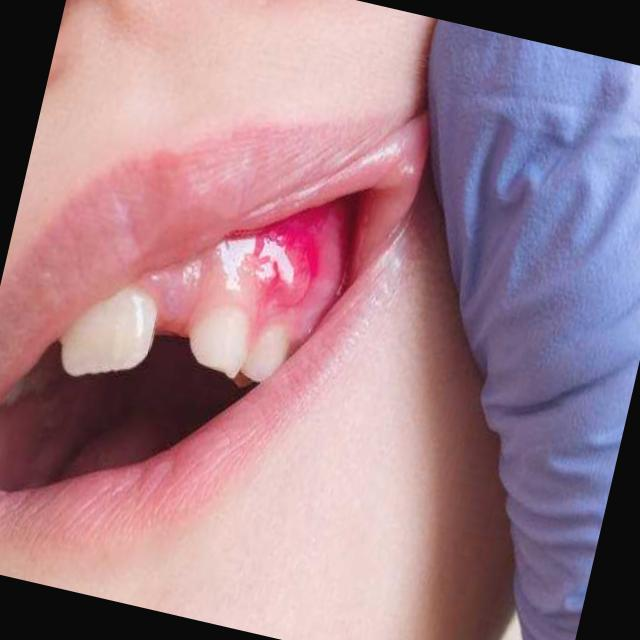abscess: (229, 196, 350, 342)
